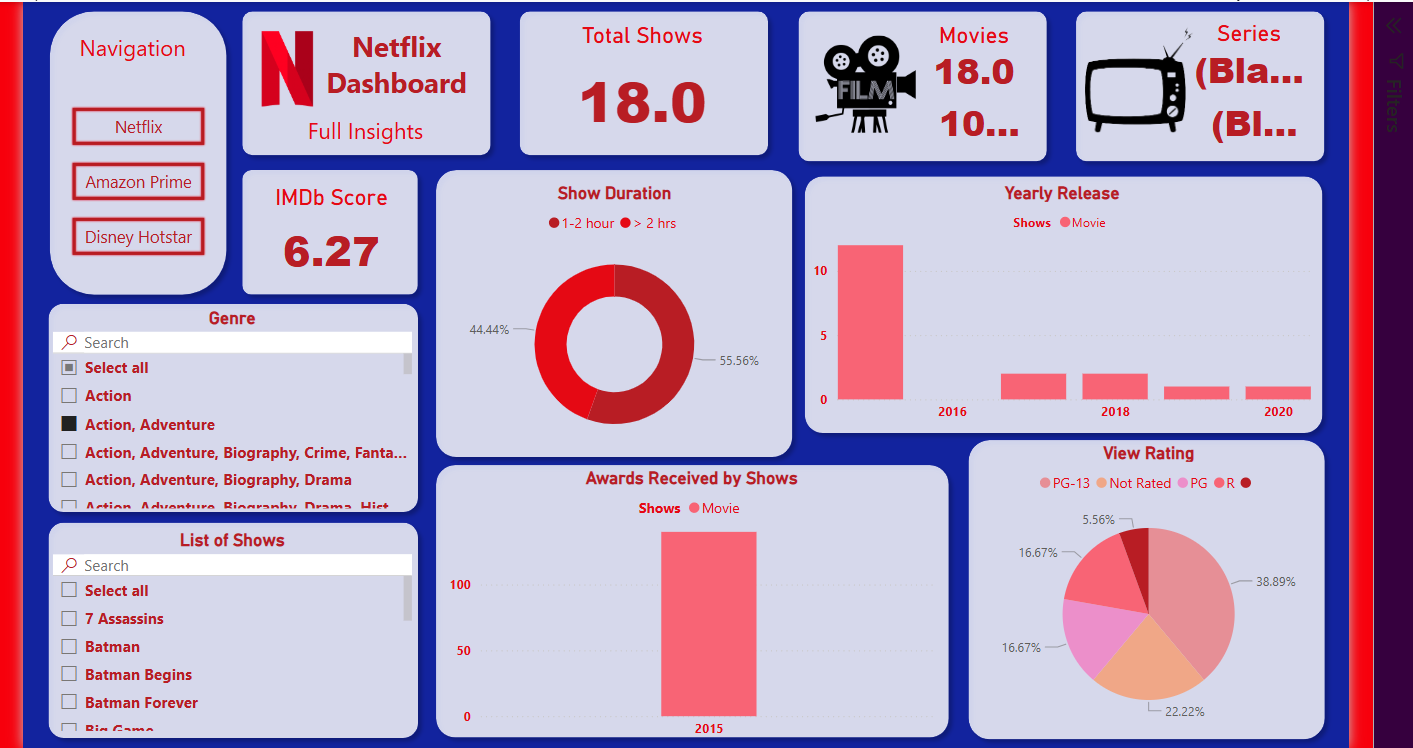

The page's visual inventory and layout, read from the dashboard file:
{"tool":"powerbi","page":{"name":"Netflix","canvas":[1280,720],"ordinal":0},"visuals":[{"type":"shape","box":[202.8,0.2,257.6,156.9],"z":0},{"type":"shape","box":[16.4,0,188.5,291.5],"z":1000},{"type":"shape","box":[470.9,0.2,257.6,156.9],"z":2000},{"type":"shape","box":[740.1,0.2,257.6,162.7],"z":3000},{"type":"shape","box":[1007.1,0.2,257.6,162.7],"z":4000},{"type":"textbox","box":[34.9,23.6,141.7,41],"z":5000},{"type":"textbox","box":[275.4,19,170.9,84.3],"z":6000},{"type":"textbox","box":[214.5,103.3,231.8,39.8],"z":7000},{"type":"card","title":"Total Shows","fields":{"Values":["All Measures.Total Shows"]},"box":[483.7,19,228.3,124.1],"z":8000},{"type":"card","title":"Movies","fields":{"Values":["All Measures.Movies"]},"box":[852.5,19,130,71.4],"z":9000},{"type":"card","title":"Male","fields":{"Values":["All Measures.% movie"]},"box":[868.9,90.4,108.9,52.7],"z":10000},{"type":"card","title":"Series","fields":{"Values":["All Measures.Series"]},"box":[1118.2,18.7,130,71.4],"z":11000},{"type":"card","title":"Male","fields":{"Values":["All Measures.% series"]},"box":[1134.6,90.1,108.9,52.7],"z":12000},{"type":"image","box":[757.7,27.2,111.2,103],"z":13000},{"type":"image","box":[1019.9,19,115.9,111.2],"z":14000},{"type":"shape","box":[745.8,159.2,517.5,265.8],"z":15000},{"type":"clusteredColumnChart","title":"Yearly Release","fields":{"Category":["netflix-rotten-tomatoes-metacritic-imdb.Netflix Release Year"],"Series":["netflix-rotten-tomatoes-metacritic-imdb.Series or Movie"],"Y":["CountNonNull(netflix-rotten-tomatoes-metacritic-imdb.Title)"]},"box":[757.5,173.3,490.5,240],"z":16000},{"type":"shape","box":[202.5,153.4,187.3,138.1],"z":17000},{"type":"card","title":"IMDb Score","fields":{"Values":["Avg(netflix-rotten-tomatoes-metacritic-imdb.IMDb Score)"]},"box":[214.2,175.6,166.2,101.9],"z":18000},{"type":"shape","box":[389.9,437.9,512.8,281],"z":19000},{"type":"clusteredColumnChart","title":"Awards Received by Shows","fields":{"Series":["netflix-rotten-tomatoes-metacritic-imdb.Series or Movie"],"Y":["Sum(netflix-rotten-tomatoes-metacritic-imdb.Awards Received)"],"Category":["netflix-rotten-tomatoes-metacritic-imdb.Netflix Release Year"]},"box":[406.2,448.4,477.7,270.4],"z":20000},{"type":"shape","box":[903.8,413.3,361.8,306.7],"z":21000},{"type":"pieChart","title":"View Rating","fields":{"Category":["netflix-rotten-tomatoes-metacritic-imdb.View Rating"],"Y":["CountNonNull(netflix-rotten-tomatoes-metacritic-imdb.Title)"]},"box":[915.5,425,341.9,283.3],"z":22000},{"type":"shape","box":[389.9,153.4,361.8,295],"z":23000},{"type":"donutChart","title":"Show Duration","fields":{"Category":["netflix-rotten-tomatoes-metacritic-imdb.Runtime"],"Y":["CountNonNull(netflix-rotten-tomatoes-metacritic-imdb.Title)"]},"box":[403.9,173.3,333.7,264.6],"z":24000},{"type":"image","box":[213.3,8.4,83.1,111.2],"z":25000},{"type":"actionButton","box":[45.4,99.7,131.1,39.8],"z":26000},{"type":"actionButton","box":[45.4,153.6,131.1,39.8],"z":27000},{"type":"actionButton","box":[45.4,206.3,131.1,39.8],"z":28000},{"type":"shape","box":[15.2,492.9,374.6,226],"z":29000},{"type":"shape","box":[15.2,282.1,374.6,218.9],"z":30000},{"type":"slicer","title":"Genre","fields":{"Values":["netflix-rotten-tomatoes-metacritic-imdb.Genre"]},"box":[24.6,293.9,355.9,199],"z":31000},{"type":"slicer","title":"List of Shows","fields":{"Values":["netflix-rotten-tomatoes-metacritic-imdb.Title"]},"box":[24.6,509.3,355.9,199],"z":32000}]}

Visuals, with their boxes on the page's 1280x720 design canvas (x1, y1, x2, y2). These are canvas units, not pixel positions in the 1413x748 screenshot, which may show the page scaled, cropped or inside an application window:
shape: <box>203,0,460,157</box>
shape: <box>16,0,205,292</box>
shape: <box>471,0,728,157</box>
shape: <box>740,0,998,163</box>
shape: <box>1007,0,1265,163</box>
textbox: <box>35,24,177,65</box>
textbox: <box>275,19,446,103</box>
textbox: <box>214,103,446,143</box>
"Total Shows" card: <box>484,19,712,143</box>
"Movies" card: <box>852,19,982,90</box>
"Male" card: <box>869,90,978,143</box>
"Series" card: <box>1118,19,1248,90</box>
"Male" card: <box>1135,90,1244,143</box>
image: <box>758,27,869,130</box>
image: <box>1020,19,1136,130</box>
shape: <box>746,159,1263,425</box>
"Yearly Release" clusteredColumnChart: <box>758,173,1248,413</box>
shape: <box>202,153,390,292</box>
"IMDb Score" card: <box>214,176,380,278</box>
shape: <box>390,438,903,719</box>
"Awards Received by Shows" clusteredColumnChart: <box>406,448,884,719</box>
shape: <box>904,413,1266,720</box>
"View Rating" pieChart: <box>916,425,1257,708</box>
shape: <box>390,153,752,448</box>
"Show Duration" donutChart: <box>404,173,738,438</box>
image: <box>213,8,296,120</box>
actionButton: <box>45,100,176,140</box>
actionButton: <box>45,154,176,193</box>
actionButton: <box>45,206,176,246</box>
shape: <box>15,493,390,719</box>
shape: <box>15,282,390,501</box>
"Genre" slicer: <box>25,294,380,493</box>
"List of Shows" slicer: <box>25,509,380,708</box>
